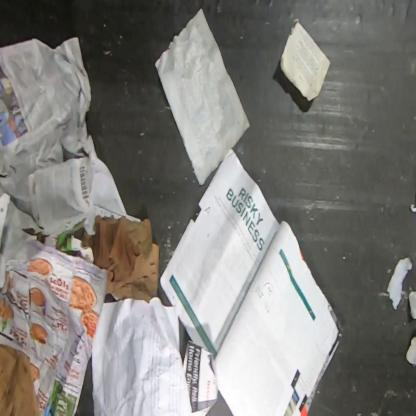cardboard: (83, 213, 160, 304), (0, 344, 42, 415)
